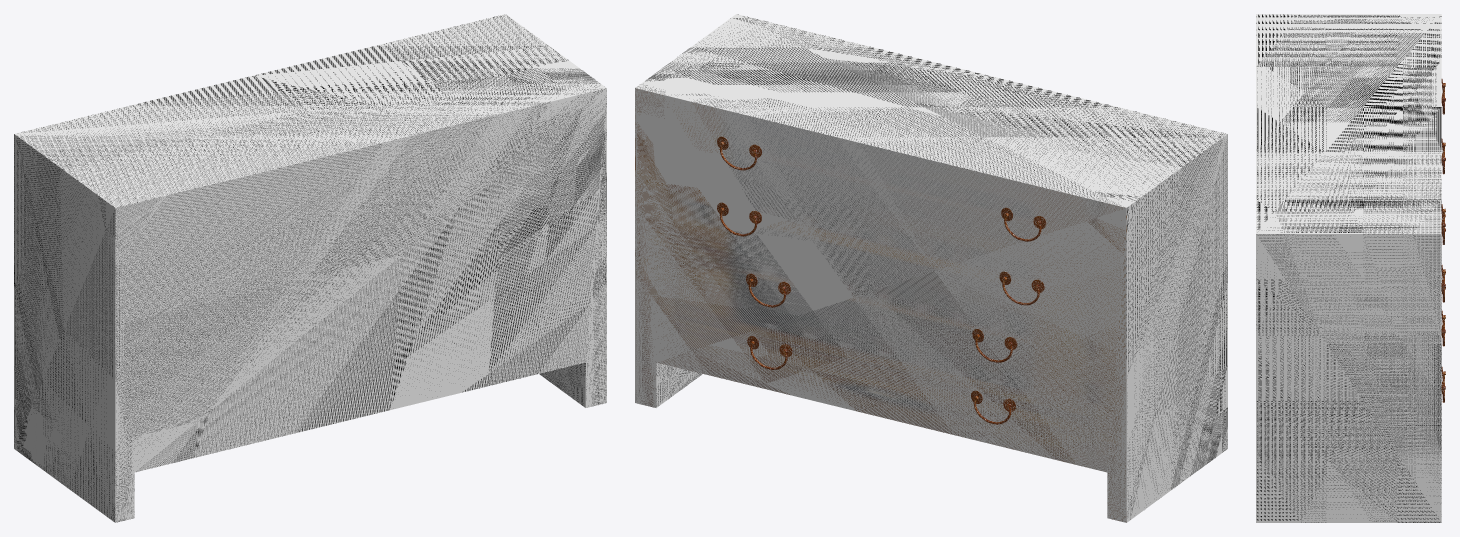
3 renders of one model, left to right at view 1: azimuth 30°, elevation 25°; view 2: azimuth 150°, elevation 25°; view 3: azimuth 270°, elevation 25°, orthographic. The views are drawn at different scales.
Visible parts, largest first — view 1: mesh73_mesh73-geometry; view 2: mesh73_mesh73-geometry; view 3: mesh73_mesh73-geometry.
Boxes of the visible parts, x1,y1,x2,y2 form: mesh73_mesh73-geometry: (14, 14, 606, 522); mesh73_mesh73-geometry: (635, 14, 1227, 522); mesh73_mesh73-geometry: (1256, 14, 1441, 522).
Size of the model in its own units: 0.8058 by 0.4934 by 0.2936.
